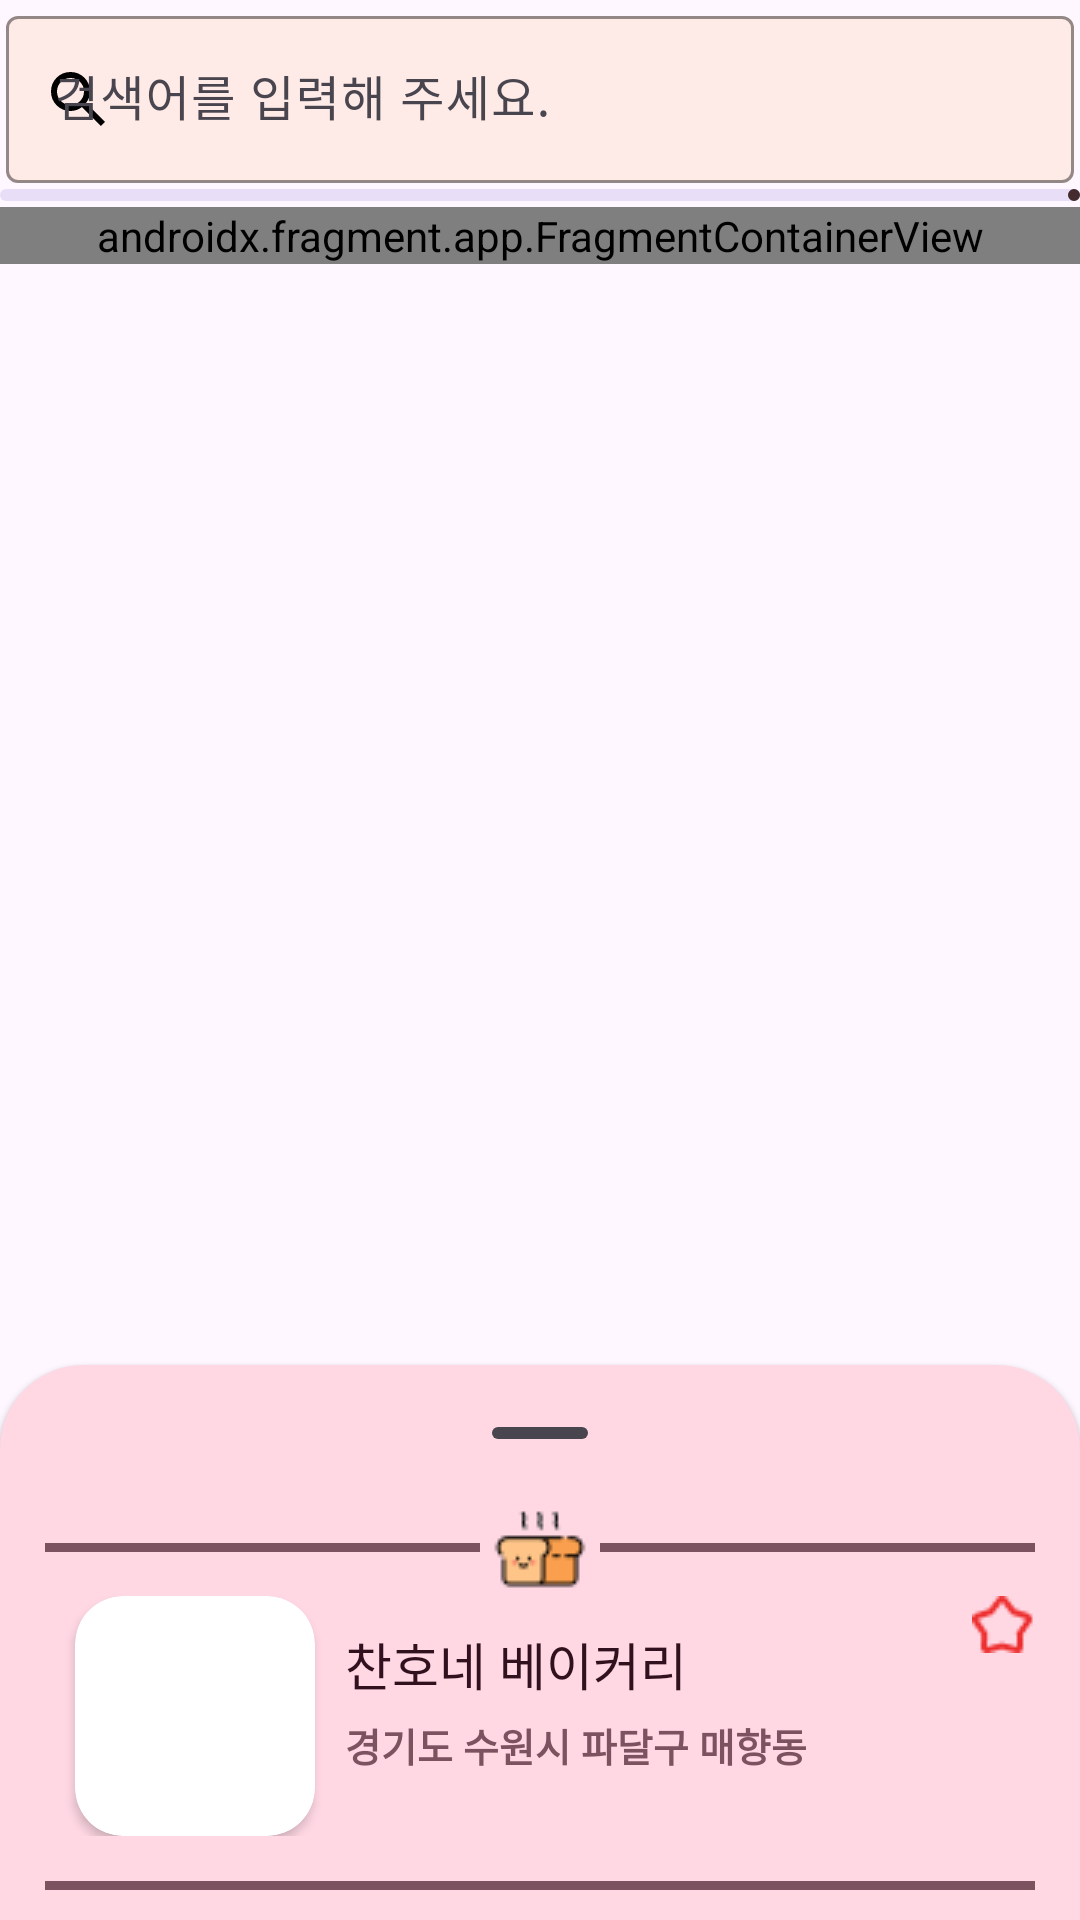

Where to tap for icons on this 1080x1920 app screen, as (x=x, y=y):
mini bread: (x=540, y=1549)
